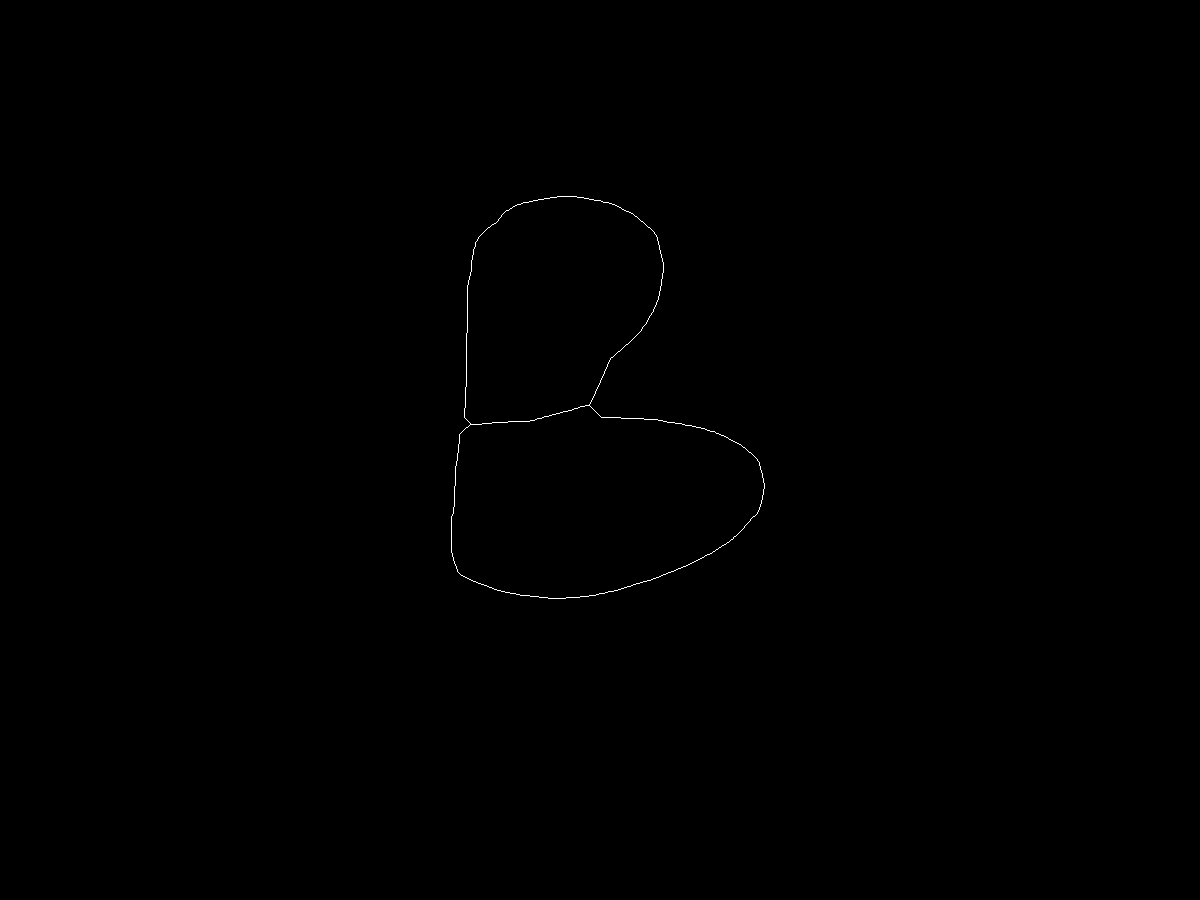dian1: (471, 229, 490, 248)
dian2: (459, 413, 481, 435)
dian3: (449, 559, 469, 579)
dian4: (582, 397, 604, 419)
